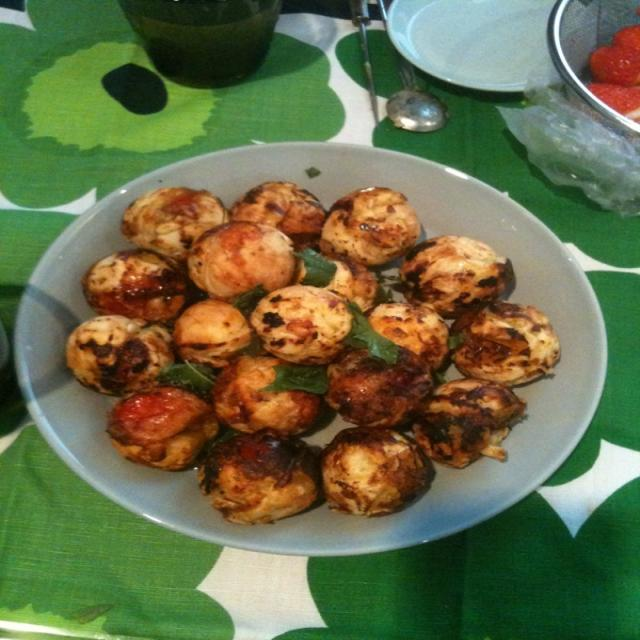炸货点心: (11, 134, 610, 562)
